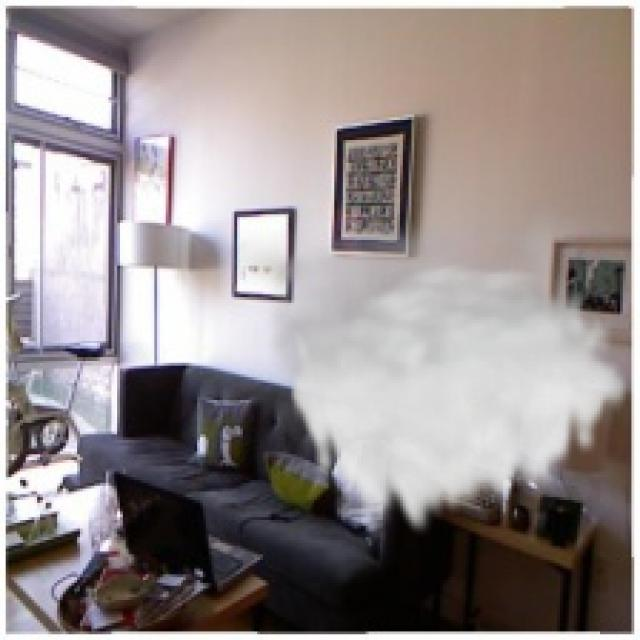smoke: (214, 197, 632, 540)
